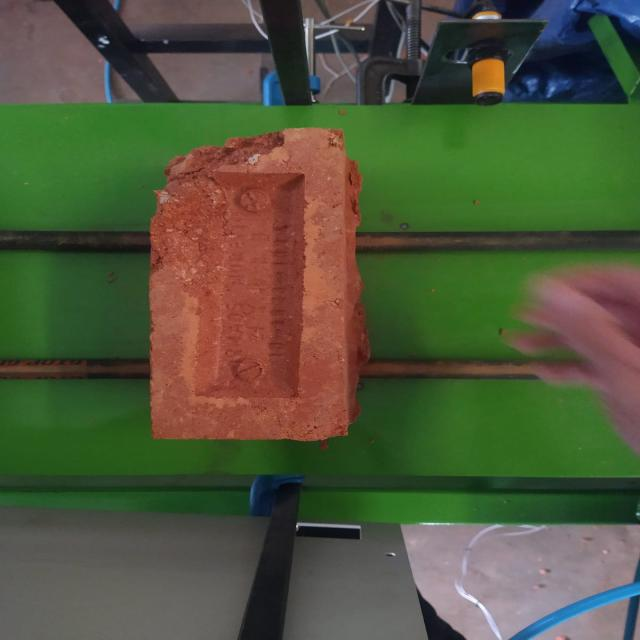bricks_ruin: (147, 129, 373, 441)
